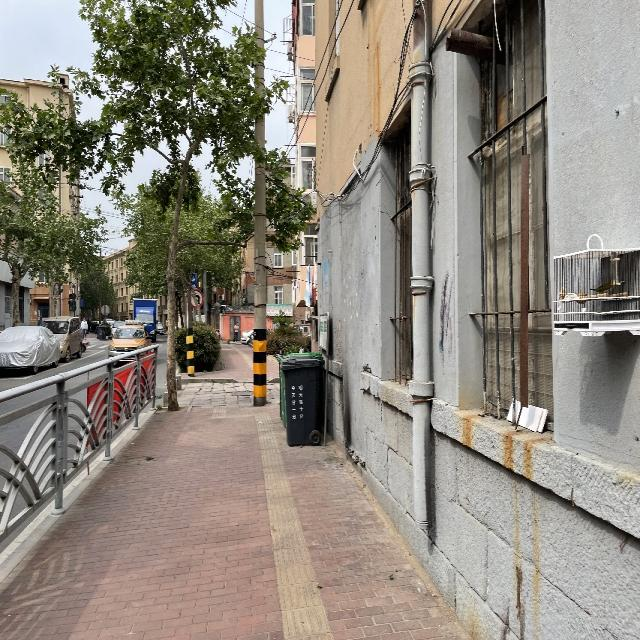garbage_bin: (280, 356, 324, 445)
